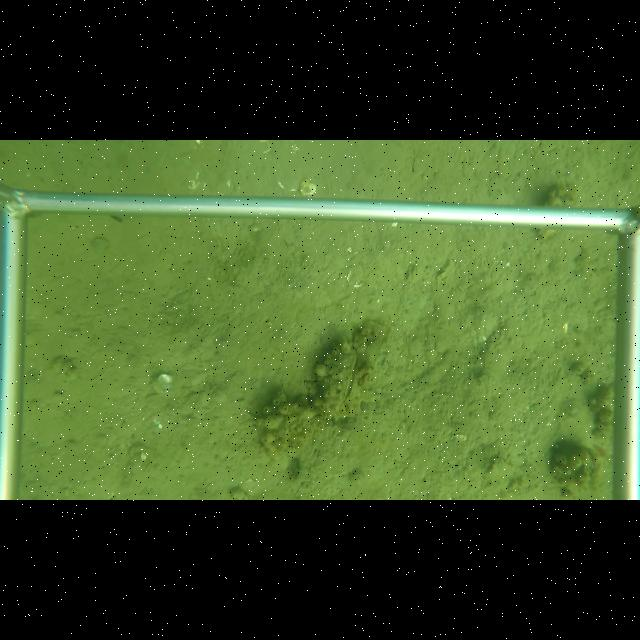Oyster-Open: (321, 348, 361, 410)
